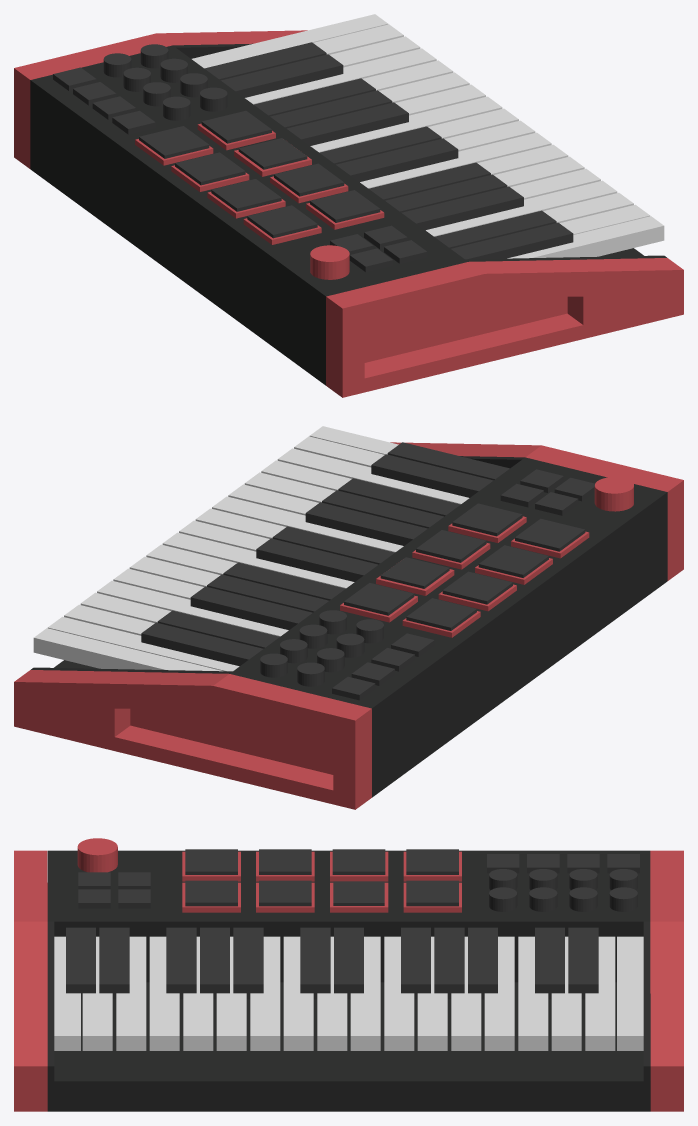
The model's file is vibe.glb.
The picture shows the model from 3 angles, top to bottom: view 1: azimuth 30°, elevation 25°; view 2: azimuth 150°, elevation 25°; view 3: azimuth 270°, elevation 25°; orthographic projection.
Visible parts, largest first — view 1: Cube, Cube.002, Cube.006, Cube.001, Cube.010, Cube.035, Cube.036, Cube.028, Cube.033, Cube.007, Cube.024, Cube.013 (+57 smaller); view 2: Cube, Cube.009, Cube.001, Cube.006, Cube.007, Cube.030, Cube.031, Cube.027, Cube.034, Cube.037, Cube.022, Cube.021 (+57 smaller); view 3: Cube.003, Cube, Cube.002, Cube.009, Cube.007, Cube.008, Cube.019, Cube.021, Cube.022, Cube.026, Cube.012, Cube.013 (+59 smaller).
Part boxes in pixels (x1,y1,x2,y2): Cube: (30, 45, 467, 385); Cube.002: (469, 258, 683, 362); Cube.006: (326, 262, 484, 397); Cube.001: (14, 33, 172, 168); Cube.010: (507, 216, 664, 258); Cube.035: (336, 138, 458, 181); Cube.036: (221, 54, 343, 97); Cube.028: (401, 186, 523, 230); Cube.033: (287, 102, 408, 145); Cube.007: (192, 14, 388, 68); Cube.024: (451, 222, 573, 259); Cube.013: (245, 48, 436, 104); Cube: (230, 457, 667, 797); Cube.009: (14, 670, 228, 774); Cube.001: (213, 674, 371, 809); Cube.006: (525, 445, 683, 580); Cube.007: (33, 628, 222, 671); Cube.030: (305, 502, 427, 545); Cube.031: (190, 586, 312, 629); Cube.027: (371, 454, 493, 497); Cube.034: (256, 538, 378, 581); Cube.037: (141, 622, 263, 666); Cube.022: (277, 448, 469, 504); Cube.021: (212, 496, 403, 552); Cube.003: (47, 982, 650, 1111); Cube: (47, 850, 650, 982); Cube.002: (14, 921, 47, 1111); Cube.009: (650, 921, 683, 1111); Cube.007: (617, 936, 643, 1050); Cube.008: (585, 936, 615, 1050); Cube.019: (283, 936, 313, 1050); Cube.021: (250, 936, 280, 1050); Cube.022: (116, 936, 146, 1050); Cube.026: (149, 936, 179, 1050); Cube.012: (484, 936, 514, 1050); Cube.013: (518, 936, 548, 1050).
Size of the model in its own units: 1.2 by 0.36 by 2.
